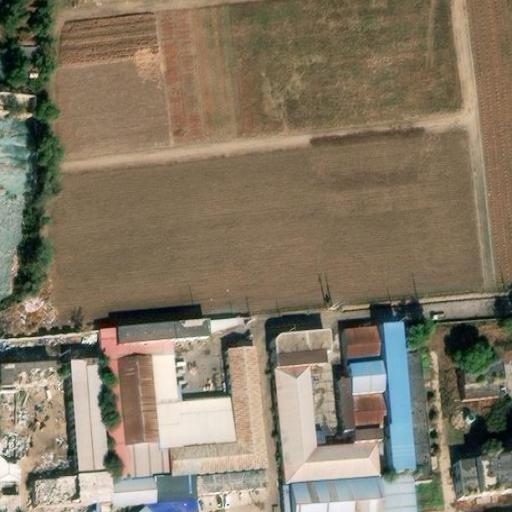building: (170, 346, 267, 476), (275, 363, 380, 483), (102, 328, 174, 479), (0, 126, 34, 289), (383, 320, 418, 472), (158, 398, 236, 448), (119, 354, 161, 444), (74, 357, 105, 474), (292, 475, 384, 512), (408, 354, 432, 480), (456, 459, 512, 499), (117, 317, 209, 341), (273, 328, 330, 366), (462, 360, 507, 398), (381, 473, 418, 512), (345, 326, 385, 362), (153, 352, 180, 405), (126, 441, 164, 478), (349, 359, 388, 394), (1, 360, 57, 384), (112, 477, 158, 506), (351, 392, 388, 427), (198, 473, 266, 492), (37, 477, 80, 503), (157, 475, 199, 501), (79, 472, 113, 501), (339, 376, 354, 428), (138, 500, 198, 512), (0, 450, 19, 484), (354, 425, 384, 443), (0, 487, 22, 511), (282, 482, 294, 512), (161, 447, 172, 473)
